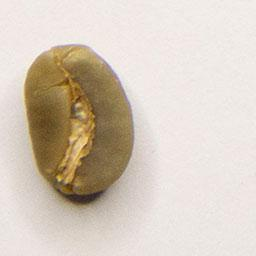premium: (21, 41, 139, 201)
